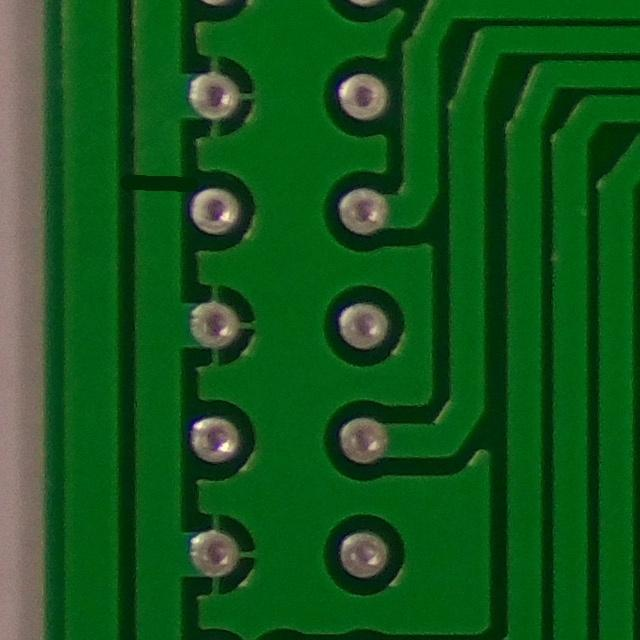open_circuit: (128, 148, 197, 226)
